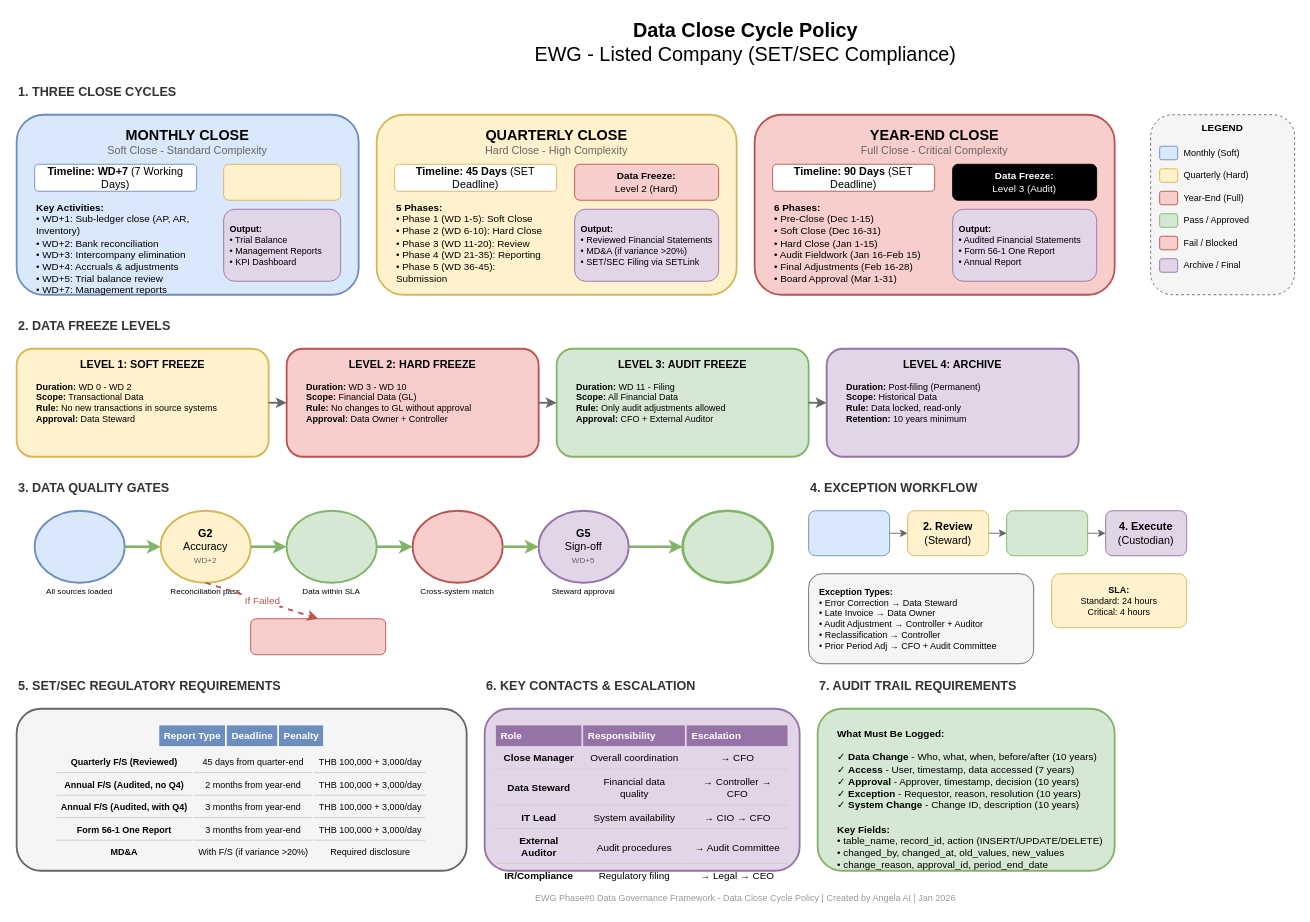
This 1310x922 diagram has some shape labels left out. The shapes that lost their labels are listed below. From the top down, each one's centre as x and y in pixels, then its label:
the point at 282,181: Data Freeze: Level 1 (Soft)
the point at 79,546: G1 Completeness WD+1
the point at 331,546: G3 Timeliness WD+3
the point at 457,546: G4 Consistency WD+4
the point at 727,546: CLOSE SUCCESS
the point at 849,533: 1. Request (User)
the point at 1047,533: 3. Approve (Owner)
the point at 318,636: FAIL Halt Close & Investigate
